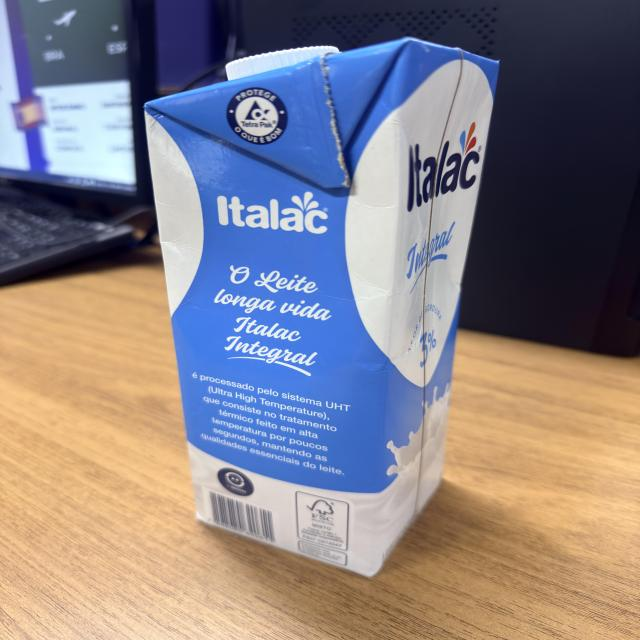Caixa de Leite: (142, 38, 493, 578)
